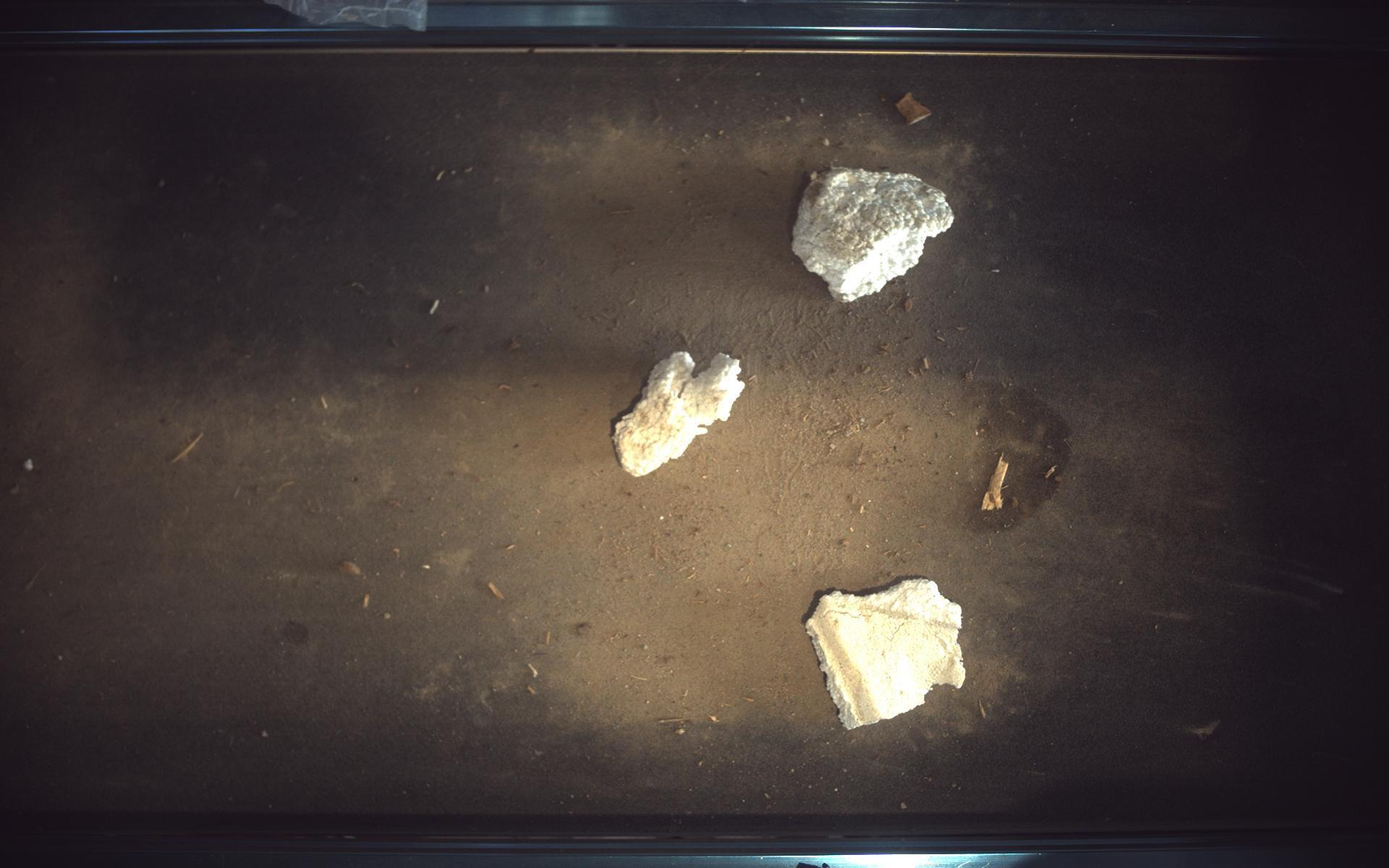foam: (807, 579, 967, 731), (793, 166, 956, 301), (613, 352, 746, 477)
